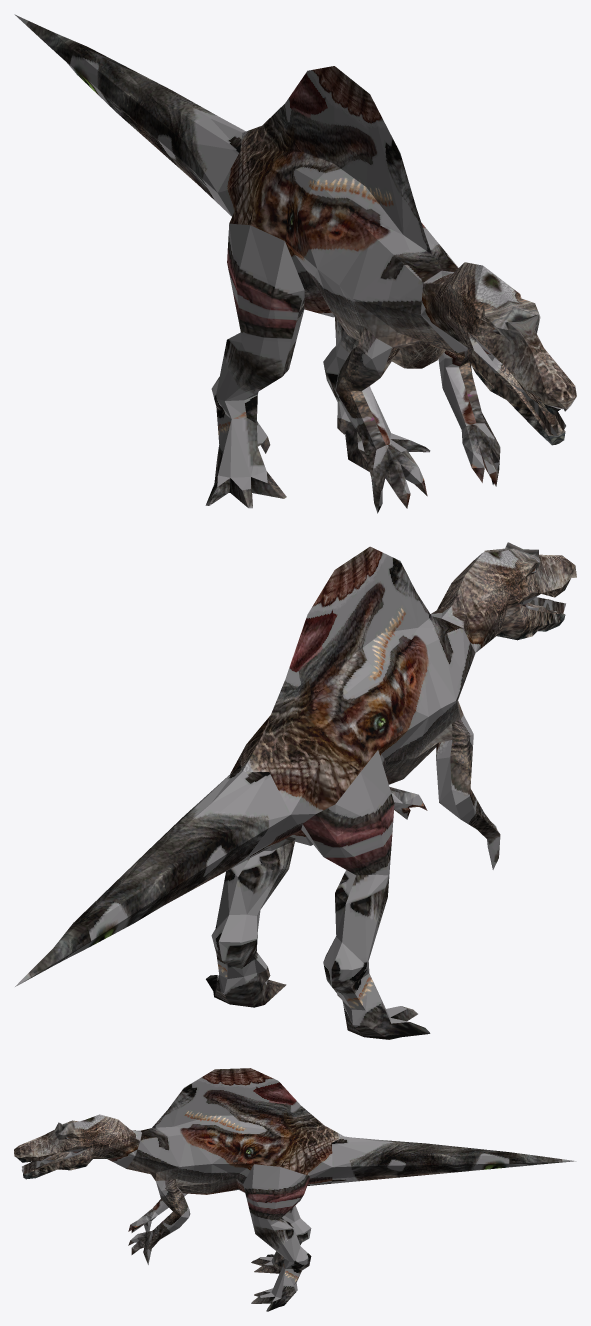
The model's file is spino.obj.
3 views of the same model, one above another, from view 1: azimuth 30°, elevation 25°; view 2: azimuth 150°, elevation 25°; view 3: azimuth 270°, elevation 25° (orthographic). The views are drawn at different scales.
Bounding box in the file's own units: 3.88 × 7 × 16.55.
1 material, 1 textured.
